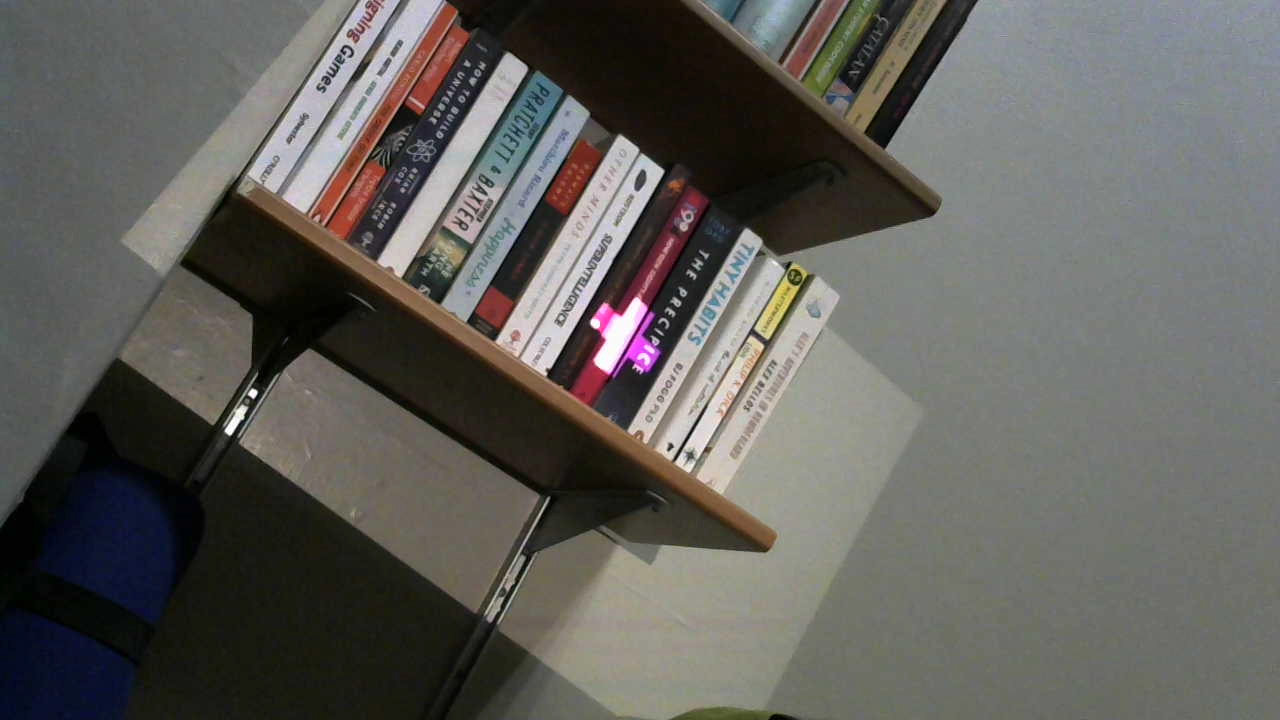calibration_symbol: (588, 297, 662, 377)
